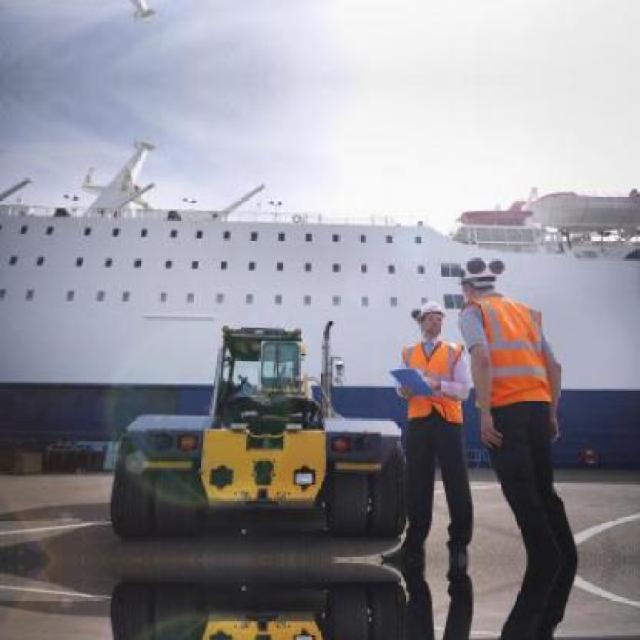helmet: (452, 251, 508, 300), (411, 284, 451, 338)
